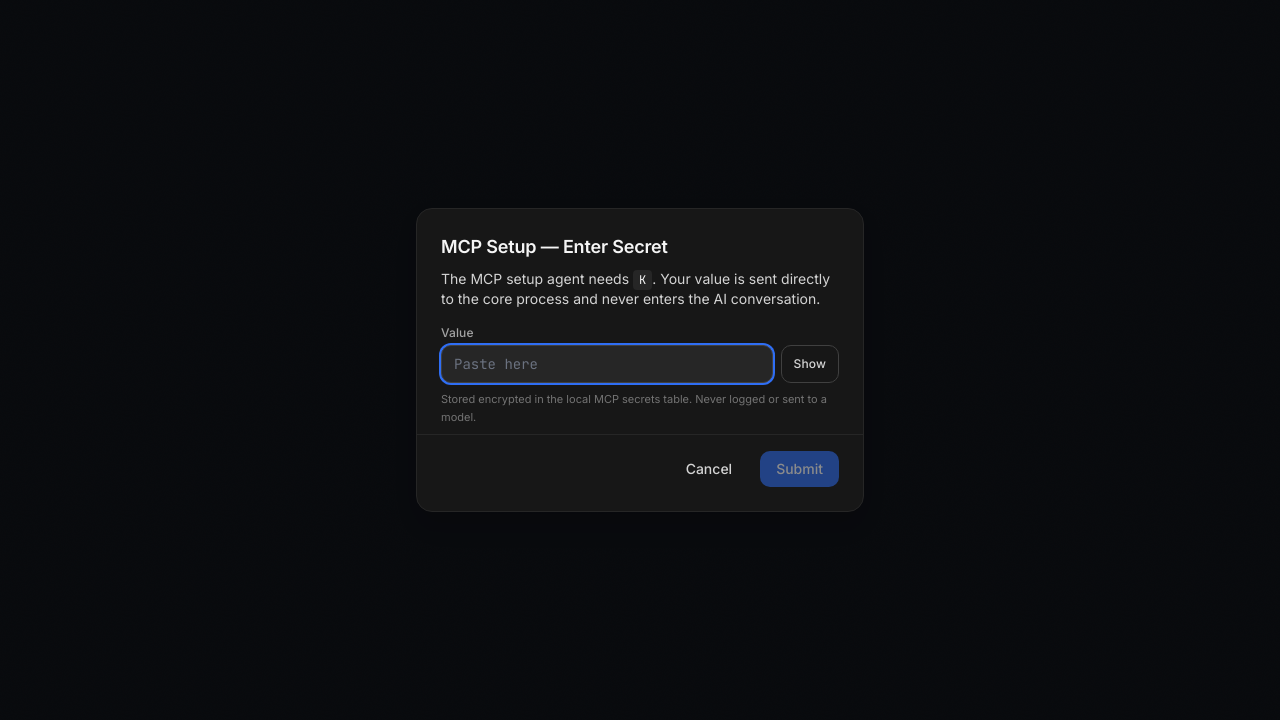
SecretPromptDialog › submit button disabled when value is empty
Expected: the button "Submit" is disabled, [760,451,839,487]
Type "x" into the password field labelled "Value". click: (607, 364)
box: [441,345,772,383]
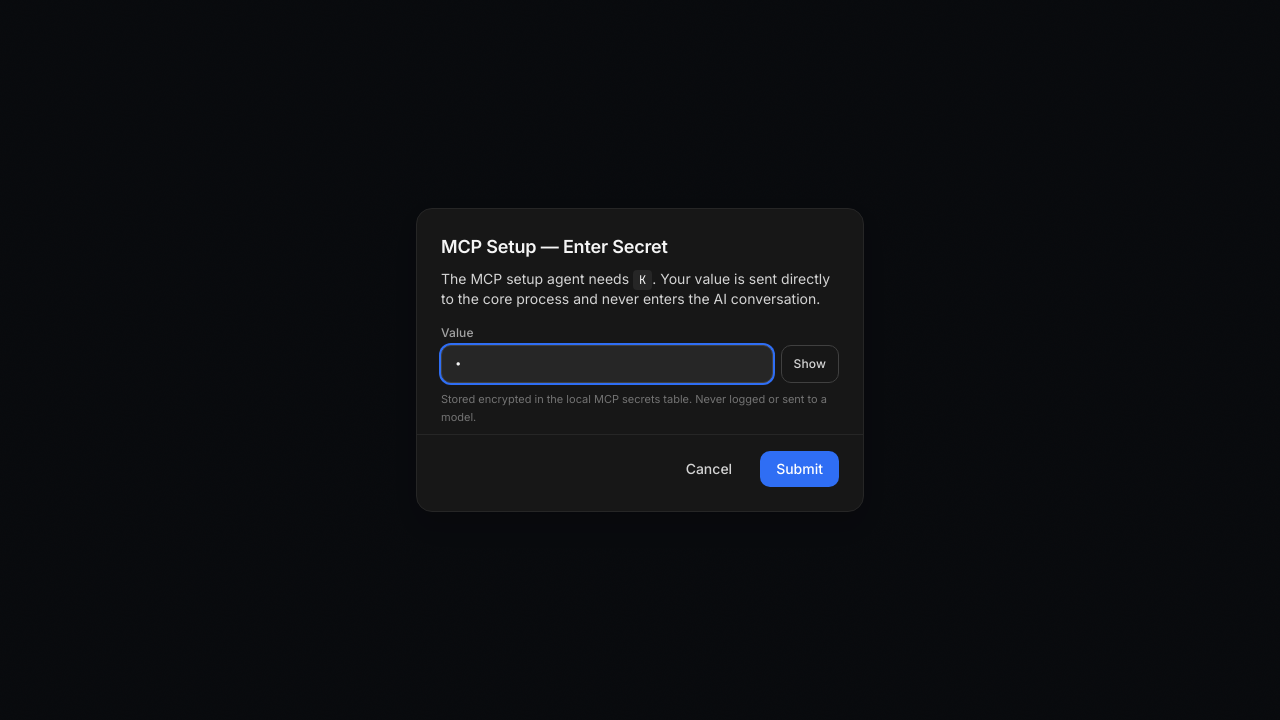
Now the button "Submit" is enabled, box [760,451,839,487]
